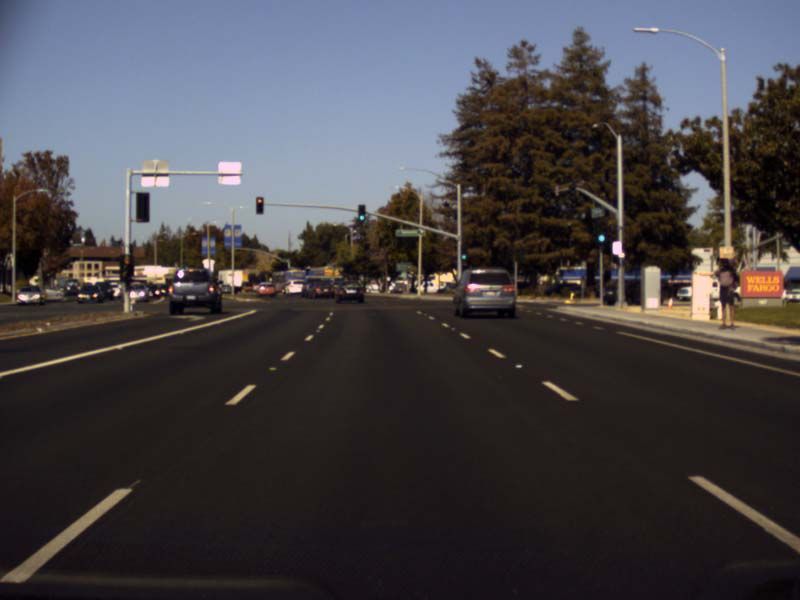Green: (594, 217, 607, 243), (357, 204, 365, 221), (461, 248, 466, 261)
Red: (121, 254, 133, 280), (255, 196, 263, 214)
